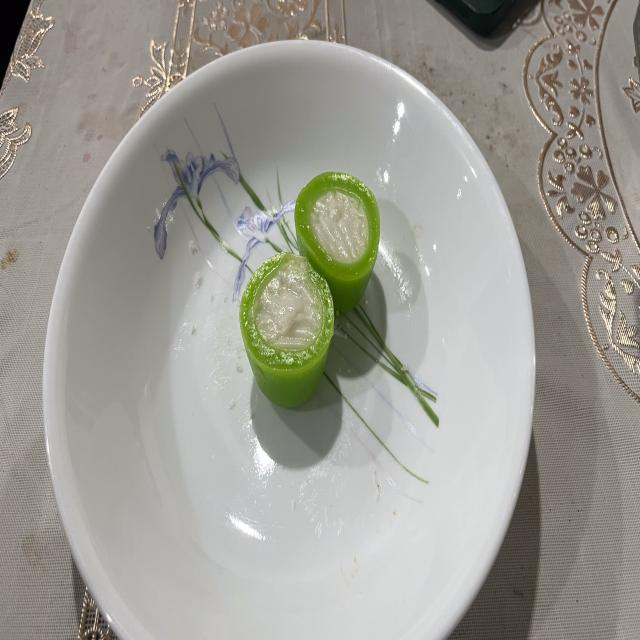nona-manis: (240, 253, 335, 407), (295, 173, 380, 313)
